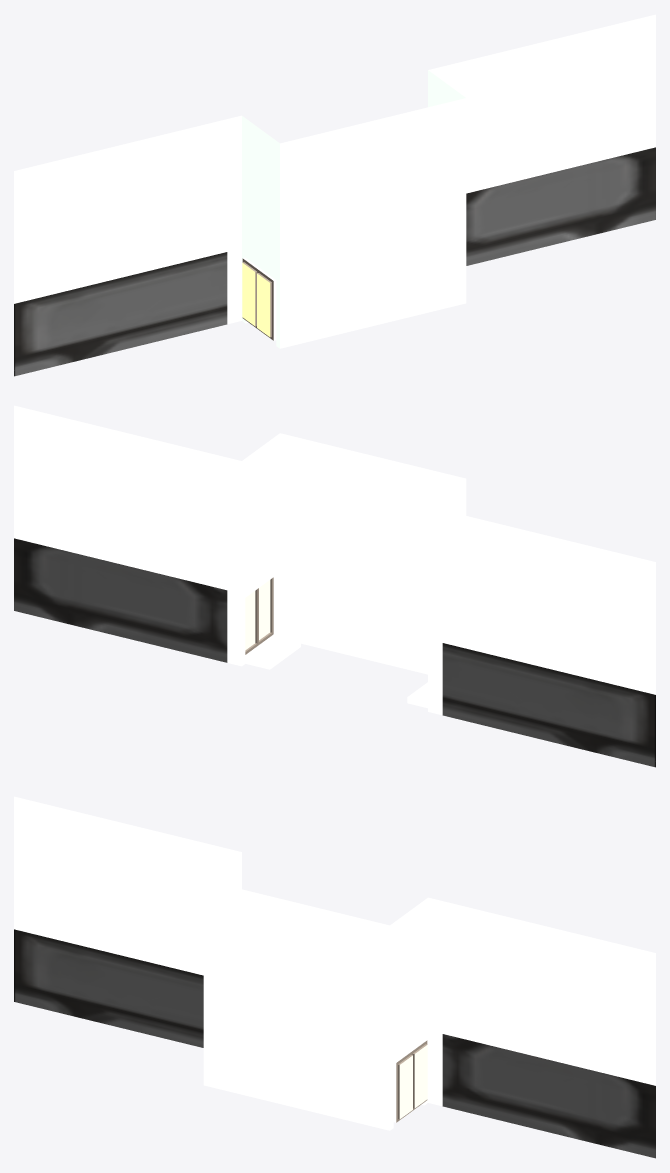
File: Room (1).fbx
The picture shows the model from 3 angles, top to bottom: view 1: azimuth 30°, elevation 25°; view 2: azimuth 150°, elevation 25°; view 3: azimuth 330°, elevation 25°; orthographic projection.
Visible parts, largest first — view 1: Room; view 2: Room; view 3: Room.
Part boxes in pixels (x1,y1,x2,y2): Room: [14, 14, 655, 376]; Room: [14, 405, 655, 767]; Room: [14, 796, 655, 1158].
Size of the model in its own units: 6144 by 1878 by 633.
